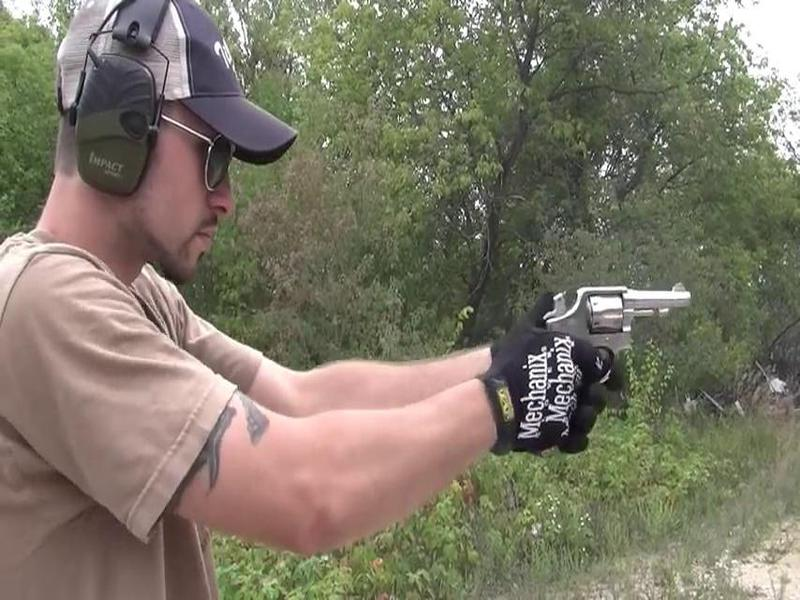Revolver: (541, 268, 699, 382)
